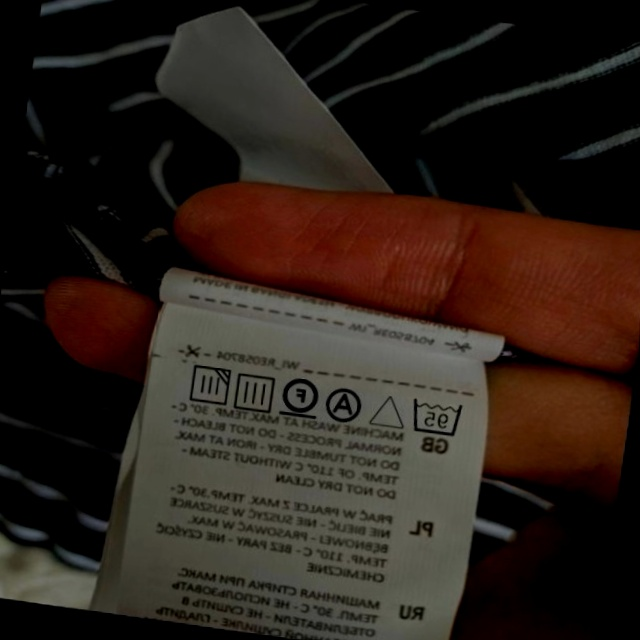95C: (406, 394, 466, 439)
bleach: (369, 388, 408, 433)
drip_dry: (230, 368, 279, 415)
drip_dry_in_shade: (182, 361, 232, 410)
dry_clean: (324, 384, 366, 425)
dry_clean_petrol_only: (278, 371, 322, 421)
